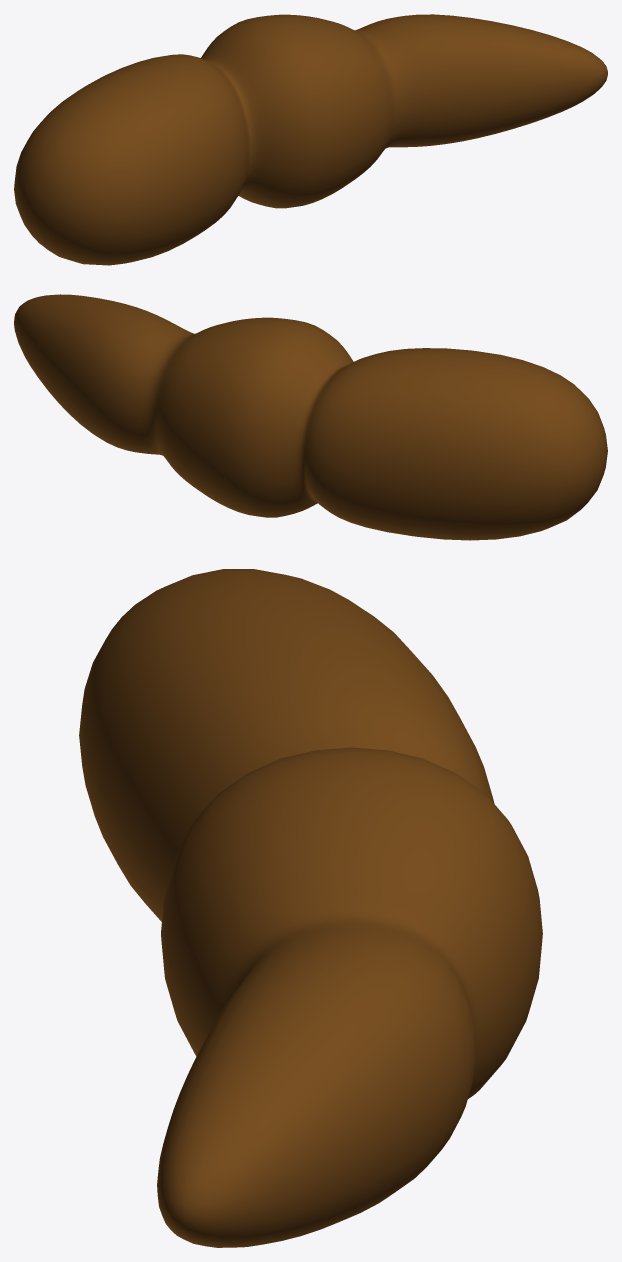
Rendered from turd.glb.
3 renders of one model, top to bottom at view 1: azimuth 30°, elevation 25°; view 2: azimuth 150°, elevation 25°; view 3: azimuth 270°, elevation 25°, orthographic. The views are drawn at different scales.
Visible parts, largest first — view 1: Turd; view 2: Turd; view 3: Turd.
Part boxes in pixels (x1,y1,x2,y2): Turd: (14,14,607,265); Turd: (14,294,607,540); Turd: (79,569,542,1247).
Bounding box in the file's own units: 12.46 × 3.6 × 4.37.
